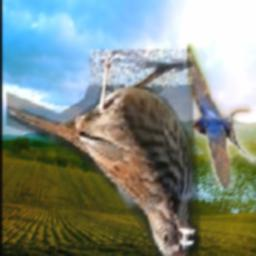Sparrow: (6, 49, 201, 256)
Swallow: (186, 44, 256, 189)
